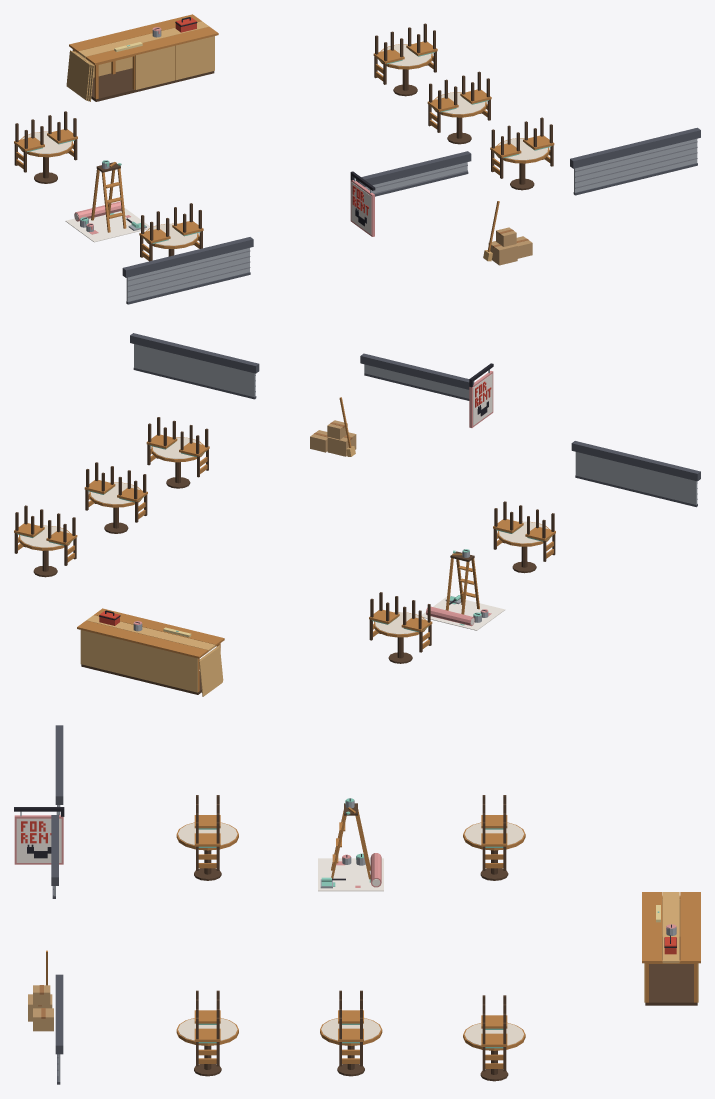
The model's file is CatCafe_Plot_ForRent_48x37.glb.
3 renders of one model, top to bottom at view 1: azimuth 30°, elevation 25°; view 2: azimuth 150°, elevation 25°; view 3: azimuth 270°, elevation 25°, orthographic. The views are drawn at different scales.
Parts seen in each view (by area): view 1: CatCafe_Plot_ForRent_48x37, CatCafe_Plot_ForRent_48x37_Shutter, CatCafe_Plot_ForRent_48x37_Sign; view 2: CatCafe_Plot_ForRent_48x37, CatCafe_Plot_ForRent_48x37_Shutter, CatCafe_Plot_ForRent_48x37_Sign; view 3: CatCafe_Plot_ForRent_48x37, CatCafe_Plot_ForRent_48x37_Sign.
Part boxes in pixels (x1,y1,x2,y2): CatCafe_Plot_ForRent_48x37: [14, 14, 700, 277]; CatCafe_Plot_ForRent_48x37_Shutter: [126, 138, 697, 304]; CatCafe_Plot_ForRent_48x37_Sign: [351, 182, 371, 234]; CatCafe_Plot_ForRent_48x37: [14, 333, 700, 696]; CatCafe_Plot_ForRent_48x37_Shutter: [133, 344, 697, 507]; CatCafe_Plot_ForRent_48x37_Sign: [473, 374, 492, 425]; CatCafe_Plot_ForRent_48x37: [14, 725, 700, 1081]; CatCafe_Plot_ForRent_48x37_Sign: [16, 818, 61, 862].
Bounding box in the file's own units: 43.7 × 8.45 × 39.6.
1 material, 1 textured.
